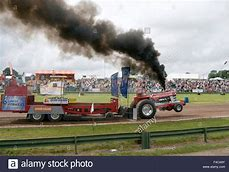smoke: (1, 1, 167, 89)
